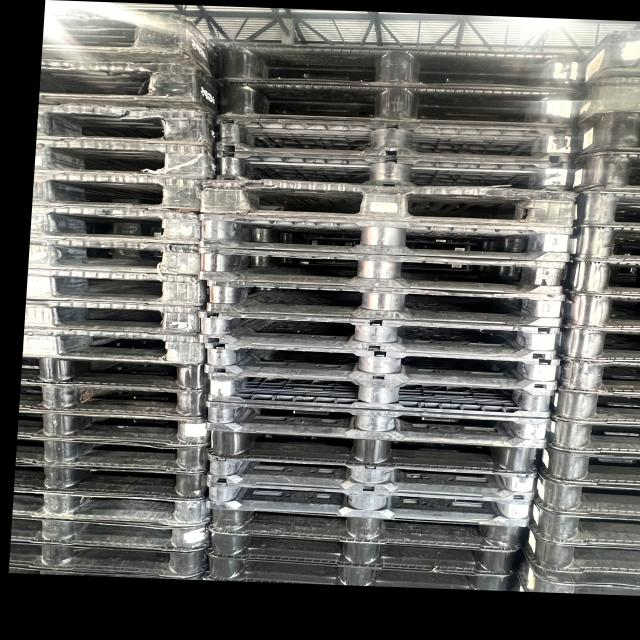igps: (195, 174, 584, 232), (210, 35, 591, 94), (192, 241, 570, 299), (202, 417, 550, 480), (197, 274, 570, 332), (200, 336, 565, 395), (192, 306, 563, 364), (186, 210, 577, 265), (202, 444, 541, 506), (211, 76, 585, 132), (202, 495, 526, 557), (200, 518, 523, 580), (203, 368, 558, 423), (201, 397, 554, 452), (207, 115, 580, 167), (207, 147, 579, 198), (198, 542, 518, 594), (30, 0, 221, 81), (29, 54, 223, 117), (25, 98, 221, 148), (2, 538, 215, 582), (21, 232, 206, 281), (12, 322, 210, 367), (29, 134, 224, 178), (23, 264, 212, 308), (9, 488, 216, 528), (28, 169, 204, 215), (26, 202, 206, 246), (517, 516, 640, 580), (19, 295, 205, 337), (9, 434, 214, 472), (5, 513, 216, 549), (12, 410, 215, 447), (10, 463, 212, 500), (15, 382, 211, 419), (11, 354, 212, 390), (524, 496, 640, 549), (529, 469, 640, 520), (531, 449, 640, 491), (517, 562, 640, 598), (564, 107, 640, 165), (572, 70, 640, 128), (562, 146, 640, 195), (542, 418, 640, 456), (578, 26, 640, 86), (554, 358, 640, 398), (551, 326, 640, 364), (558, 292, 640, 330), (546, 390, 640, 423), (558, 260, 640, 296), (569, 188, 640, 229), (566, 226, 640, 263), (196, 85, 218, 107)
